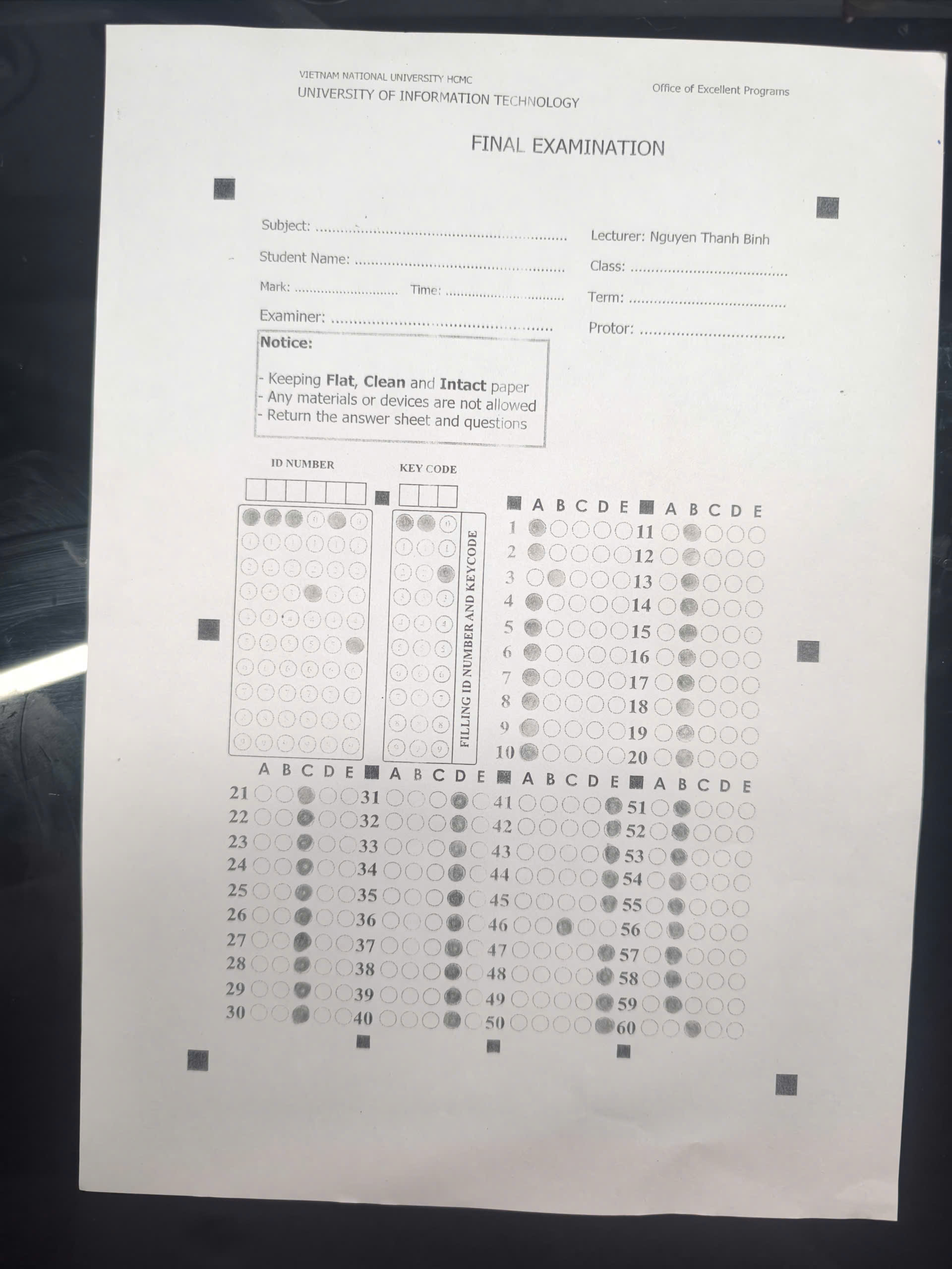info_region: (231, 500, 462, 762)
paper_region: (207, 183, 801, 1084)
q_1_20: (512, 501, 770, 782)
q_21_60: (231, 782, 770, 1052)
